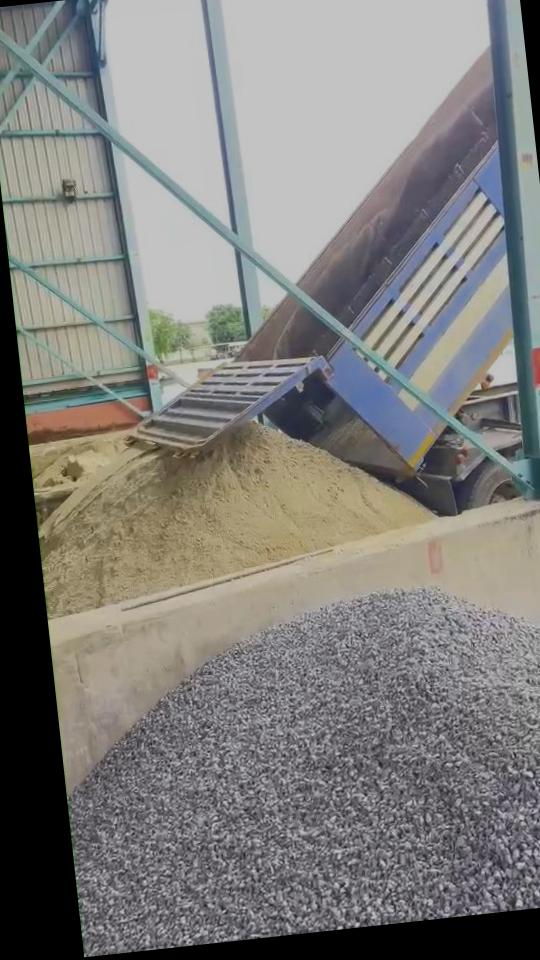gravel: (72, 590, 540, 954)
sand: (43, 423, 430, 614), (35, 450, 114, 488)
